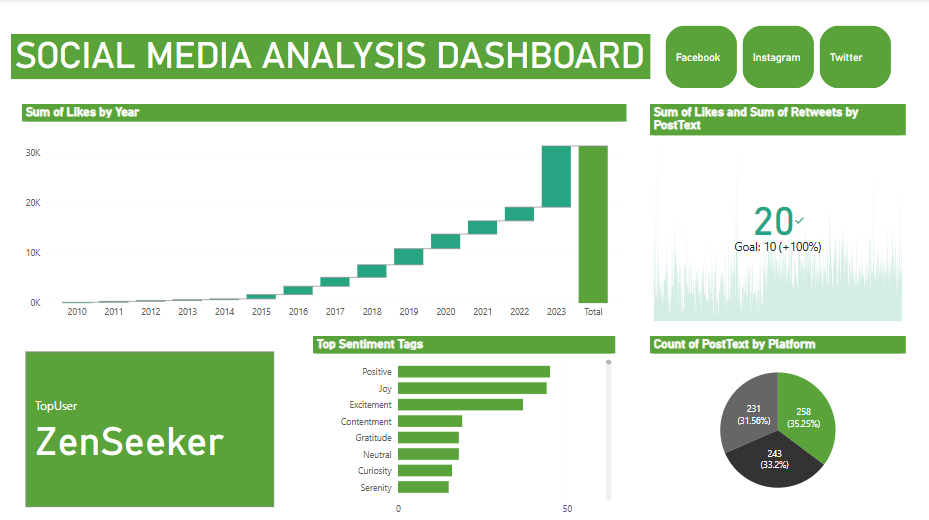

The dashboard page shown, as its layout file describes it:
{"tool":"powerbi","page":{"name":"Page 1","canvas":[1280,720],"ordinal":0},"visuals":[{"type":"kpi","fields":{"Indicator":["sentimentdataset.Likes"],"Goal":["sentimentdataset.Retweets"],"TrendLine":["sentimentdataset.PostText"]},"box":[896,144,352,304],"z":0},{"type":"advancedSlicerVisual","fields":{"Values":["sentimentdataset.Platform"]},"box":[912,32,320,96],"z":1000},{"type":"barChart","title":"Top Sentiment Tags","fields":{"Category":["sentimentdataset.Sentiment"],"Y":["sentimentdataset.Sentiment"]},"box":[432,464,416,256],"z":2000},{"type":"waterfallChart","fields":{"Category":["sentimentdataset.Timestamp.Variation.Date Hierarchy.Year","sentimentdataset.Timestamp.Variation.Date Hierarchy.Quarter","sentimentdataset.Timestamp.Variation.Date Hierarchy.Month","sentimentdataset.Timestamp.Variation.Date Hierarchy.Day","sentimentdataset.Country"],"Y":["sentimentdataset.Likes"]},"box":[32,144,832,304],"z":3000},{"type":"pieChart","fields":{"Category":["sentimentdataset.Platform"],"Y":["sentimentdataset.PostText"]},"box":[896,464,352,240],"z":4000},{"type":"cardVisual","title":"Top User","fields":{"Data":["sentimentdataset.TopUser"]},"box":[32,480,352,224],"z":5000},{"type":"textbox","title":"SOCIAL MEDIA ANALYSIS DASHBOARD","box":[16,48,880,64],"z":6000}]}

Visuals, with their boxes in screenshot pixels (x1, y1, x2, y2), scaled from the page's 1280x720 canvas onto the 929x520 screenshot:
kpi - sentimentdataset.Likes x sentimentdataset.Retweets: (650,104,906,324)
advancedSlicerVisual - sentimentdataset.Platform: (662,23,894,92)
"Top Sentiment Tags" barChart: (314,335,615,519)
waterfallChart - sentimentdataset.Timestamp.Variation.Date Hierarchy.Year x sentimentdataset.Timestamp.Variation.Date Hierarchy.Quarter: (23,104,627,324)
pieChart - sentimentdataset.Platform x sentimentdataset.PostText: (650,335,906,508)
"Top User" cardVisual: (23,347,279,508)
"SOCIAL MEDIA ANALYSIS DASHBOARD" textbox: (12,35,650,81)
